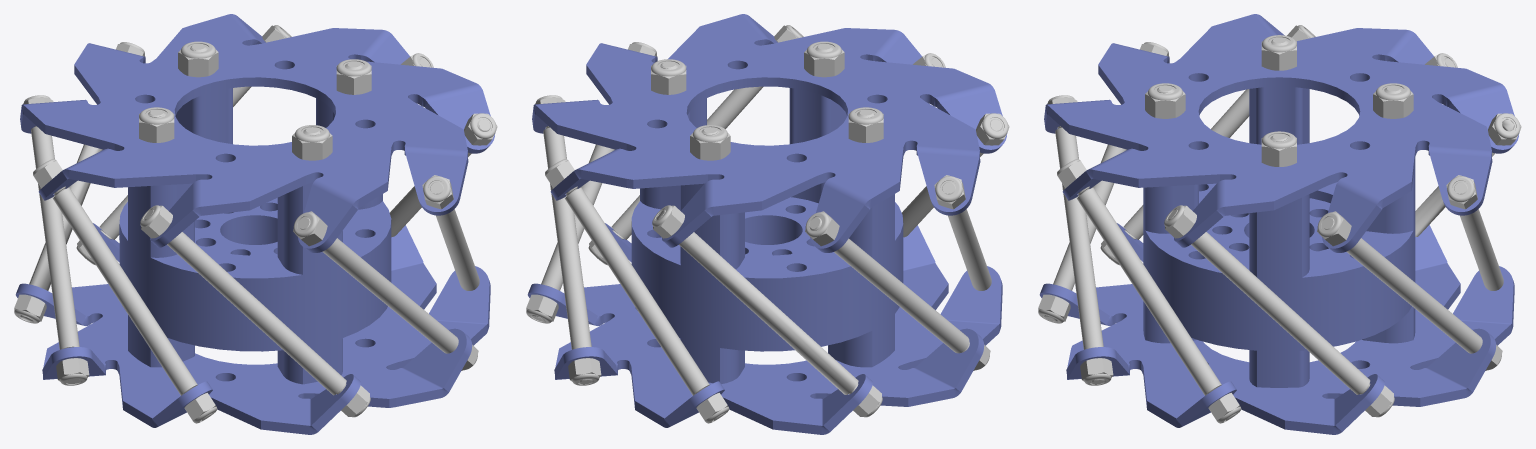
Rendered from leftRear-dec-1.fbx.
3 views of the same model, side by side, from view 1: azimuth 30°, elevation 25°; view 2: azimuth 150°, elevation 25°; view 3: azimuth 270°, elevation 25° (orthographic).
Visible parts, largest first — view 1: Body1.041, Body1, Body1.037, Body1.034, Body1.026, Body1.054, Body1.005, Body1.001, Body1.004, Body1.040, Body1.033, Body1.046 (+12 smaller); view 2: Body1.041, Body1, Body1.037, Body1.052, Body1.004, Body1.006, Body1.054, Body1.034, Body1.001, Body1.055, Body1.033, Body1.040 (+12 smaller); view 3: Body1.041, Body1, Body1.037, Body1.001, Body1.055, Body1.005, Body1.006, Body1.052, Body1.034, Body1.026, Body1.033, Body1.040 (+12 smaller).
Part boxes in pixels (box(x1,y1,x2,y2)): Body1.041: box(20, 14, 495, 252); Body1: box(119, 88, 391, 384); Body1.037: box(15, 223, 490, 434); Body1.034: box(53, 186, 212, 420); Body1.026: box(144, 210, 346, 395); Body1.054: box(31, 126, 80, 382); Body1.005: box(299, 218, 458, 353); Body1.001: box(430, 182, 479, 290); Body1.004: box(20, 144, 102, 321); Body1.040: box(292, 125, 332, 160); Body1.033: box(178, 41, 218, 77); Body1.046: box(139, 107, 174, 142); Body1.041: box(532, 14, 1007, 252); Body1: box(631, 88, 903, 383); Body1.037: box(527, 223, 1002, 434); Body1.052: box(565, 186, 724, 420); Body1.004: box(657, 210, 858, 394); Body1.006: box(543, 126, 593, 384); Body1.054: box(809, 217, 969, 353); Body1.034: box(942, 182, 991, 290); Body1.001: box(596, 29, 801, 260); Body1.055: box(532, 144, 614, 321); Body1.033: box(690, 125, 730, 160); Body1.040: box(804, 41, 844, 77); Body1.041: box(1044, 14, 1519, 252); Body1: box(1143, 86, 1415, 387); Body1.037: box(1039, 223, 1514, 434); Body1.001: box(1077, 186, 1236, 420); Body1.055: box(1168, 209, 1370, 394); Body1.005: box(1055, 126, 1105, 384); Body1.006: box(1323, 218, 1482, 353); Body1.052: box(1454, 182, 1503, 290); Body1.034: box(1108, 29, 1313, 260); Body1.026: box(1044, 144, 1126, 321); Body1.033: box(1373, 83, 1413, 118); Body1.040: box(1145, 83, 1185, 118).
Size of the model in its own units: 9.48 by 5.9 by 9.6.
